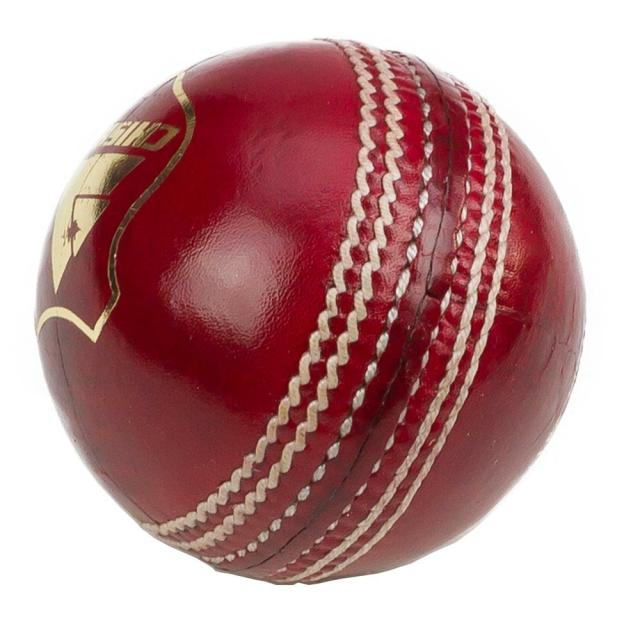ball: (28, 32, 596, 592)
